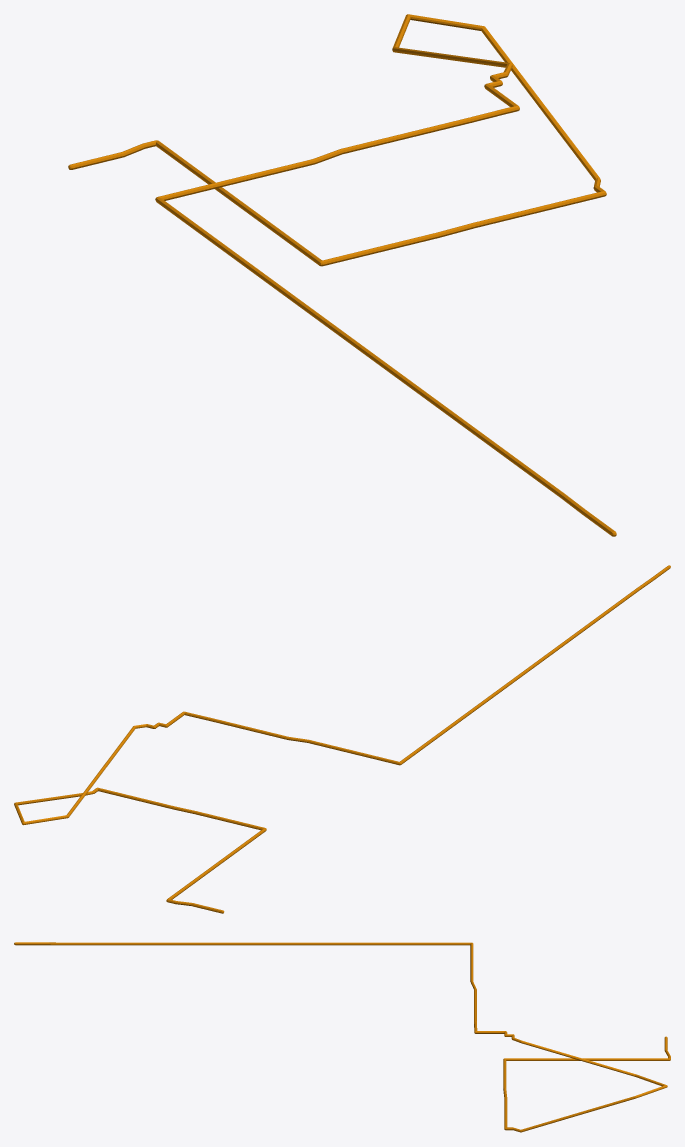
3 views of the same model, one above another, from view 1: azimuth 30°, elevation 25°; view 2: azimuth 150°, elevation 25°; view 3: azimuth 270°, elevation 25° (orthographic). The views are drawn at different scales.
Size of the model in its own units: 1907 by 520 by 4386.
